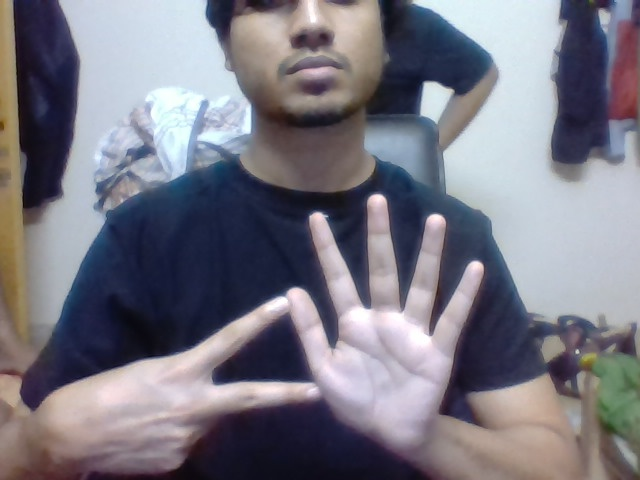N: (204, 291, 289, 416)
